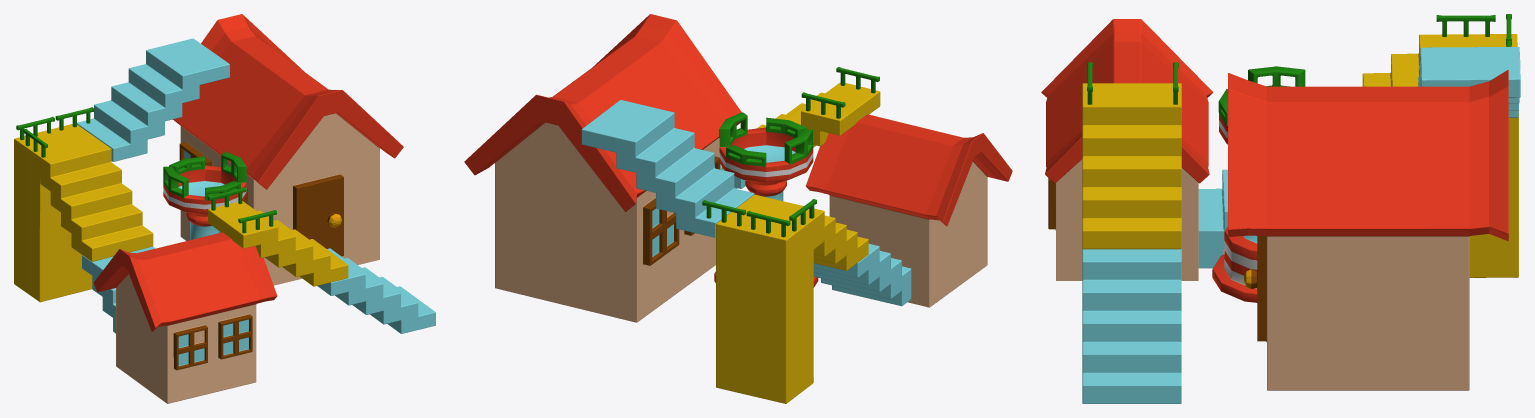
Rendered from NeiborHood.fbx.
3 views of the same model, side by side, from view 1: azimuth 30°, elevation 25°; view 2: azimuth 150°, elevation 25°; view 3: azimuth 270°, elevation 25° (orthographic). The views are drawn at different scales.
Visible parts, largest first — view 1: Neiborhood; view 2: Neiborhood; view 3: Neiborhood.
Part boxes in pixels (bbox=[...]): Neiborhood: bbox=[14, 14, 435, 403]; Neiborhood: bbox=[464, 14, 1012, 403]; Neiborhood: bbox=[1041, 14, 1520, 403].
Size of the model in its own units: 728 by 475 by 683.
